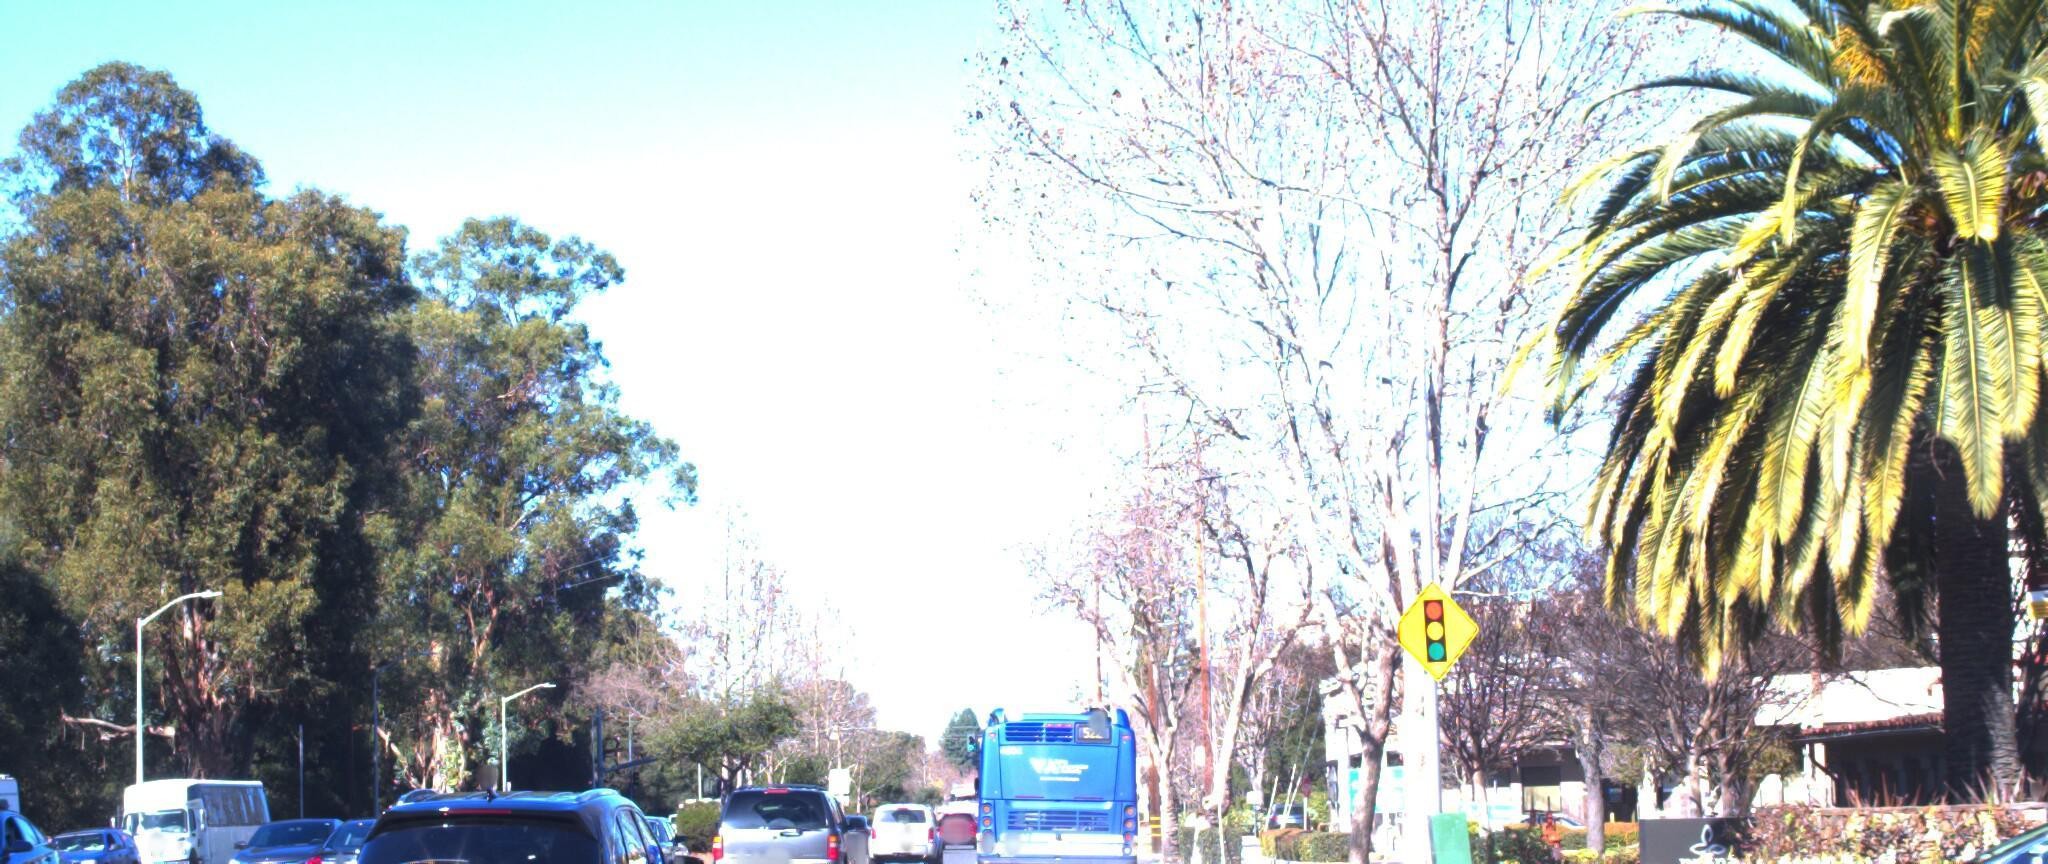bus: (948, 690, 1143, 864)
car: (286, 761, 717, 864), (1753, 784, 2048, 864), (195, 782, 451, 864), (697, 774, 862, 864), (849, 797, 938, 863), (0, 800, 65, 864)
other_vehicle: (0, 750, 34, 864)
